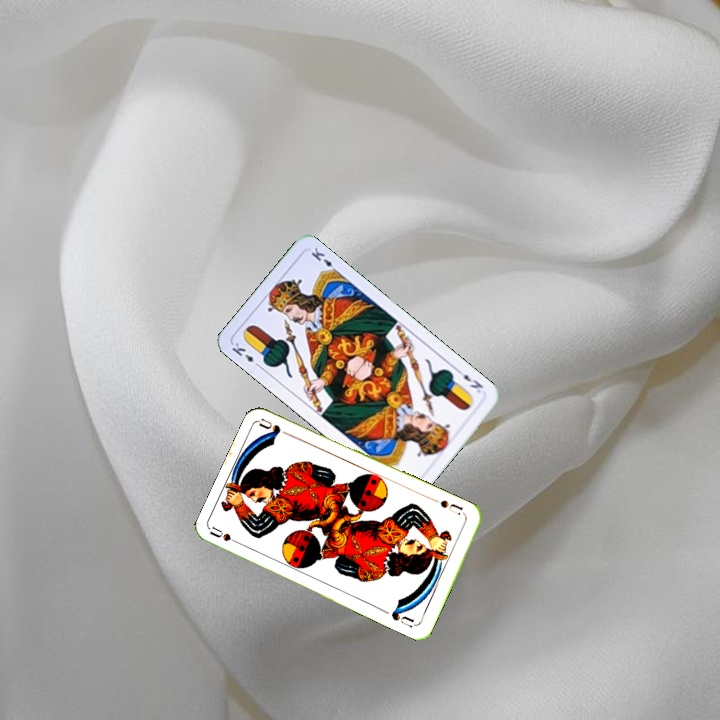EK: (227, 338, 264, 371), (453, 365, 486, 396)
SU: (207, 523, 246, 548), (436, 496, 468, 519)
